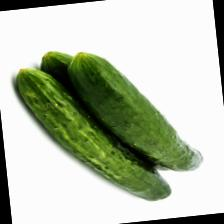cucumber: (14, 54, 172, 214), (64, 40, 205, 183)
